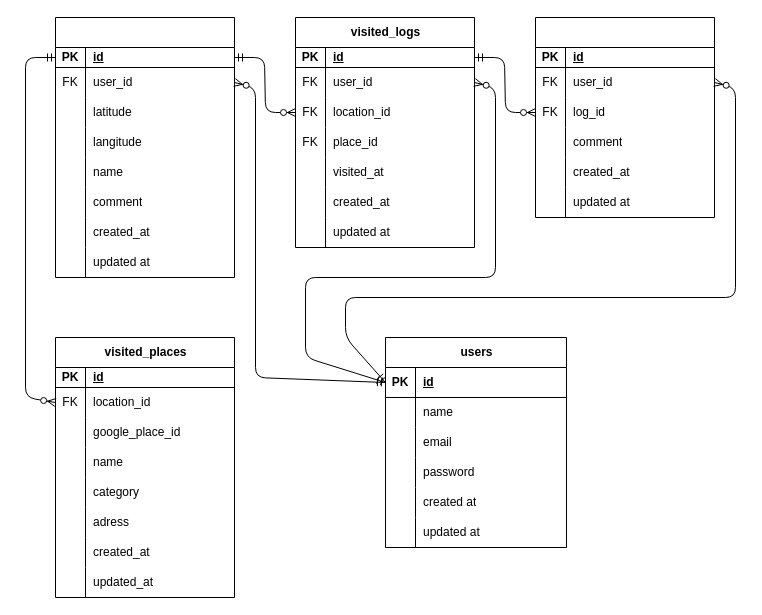
This 762x615 diagram has some shape labels left out. The shapes that lost their labels are listed below. From the top down, each one's box as (x1, y1, x2, y2) in pixels, then its label:
(534, 16, 714, 218): visited_comments
(54, 16, 234, 278): visited_locations
